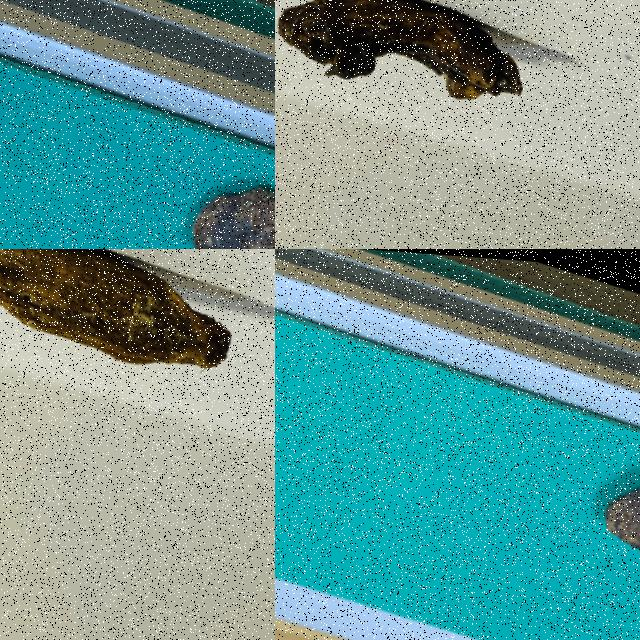Flat_cocoabeans: (0, 249, 274, 453), (275, 0, 583, 149), (486, 387, 639, 601), (144, 121, 274, 248)
